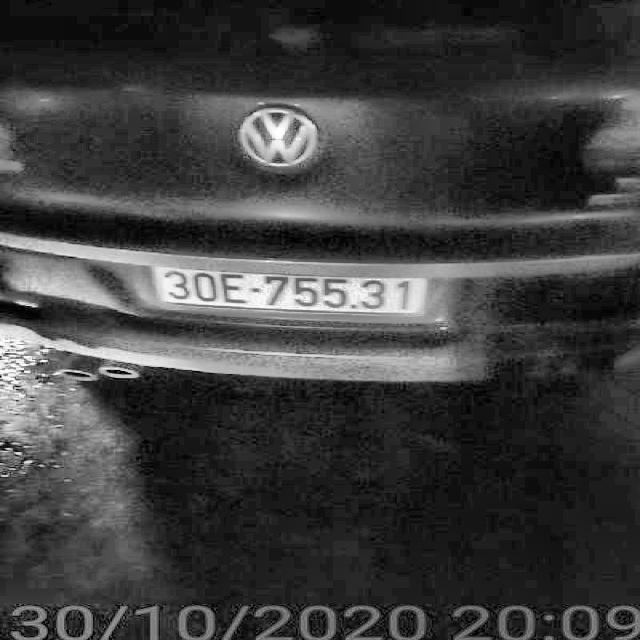plate: (142, 255, 446, 322)
